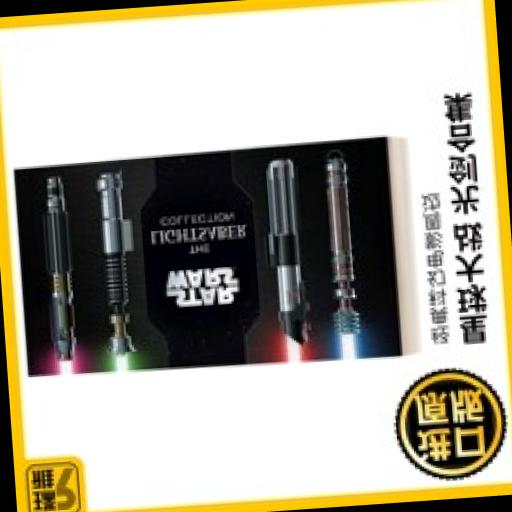lightsaber: (92, 169, 148, 376), (322, 156, 364, 360), (41, 176, 80, 378)
sith saber: (264, 160, 310, 366)
